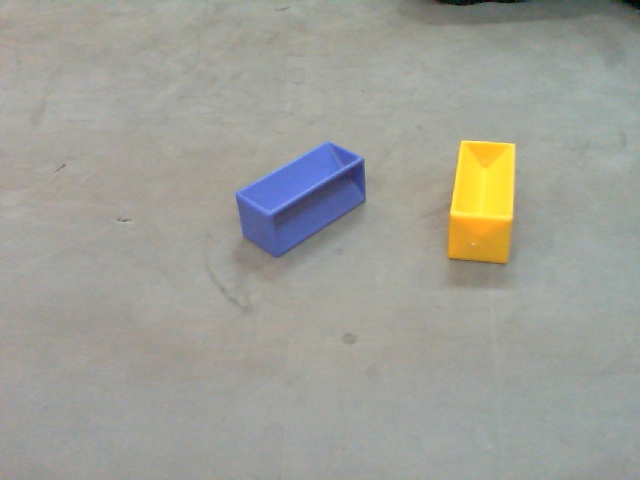BlueSample: (230, 138, 369, 262)
YellowSample: (446, 138, 518, 267)
